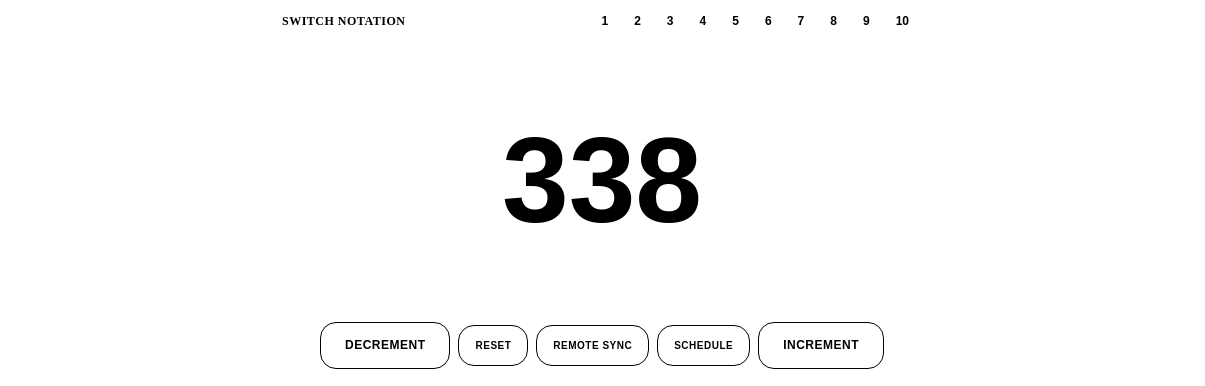
Test case: Counter › should reset value
Click the button "Reset" at [494, 346], box [459, 325, 529, 366]
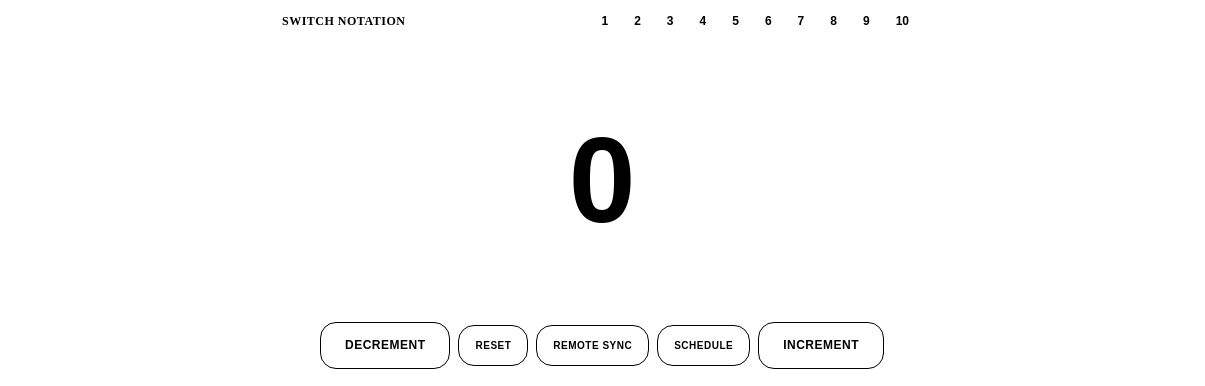
Expected: the number field named "counter-value" holds "0", [16, 94, 1188, 266]
